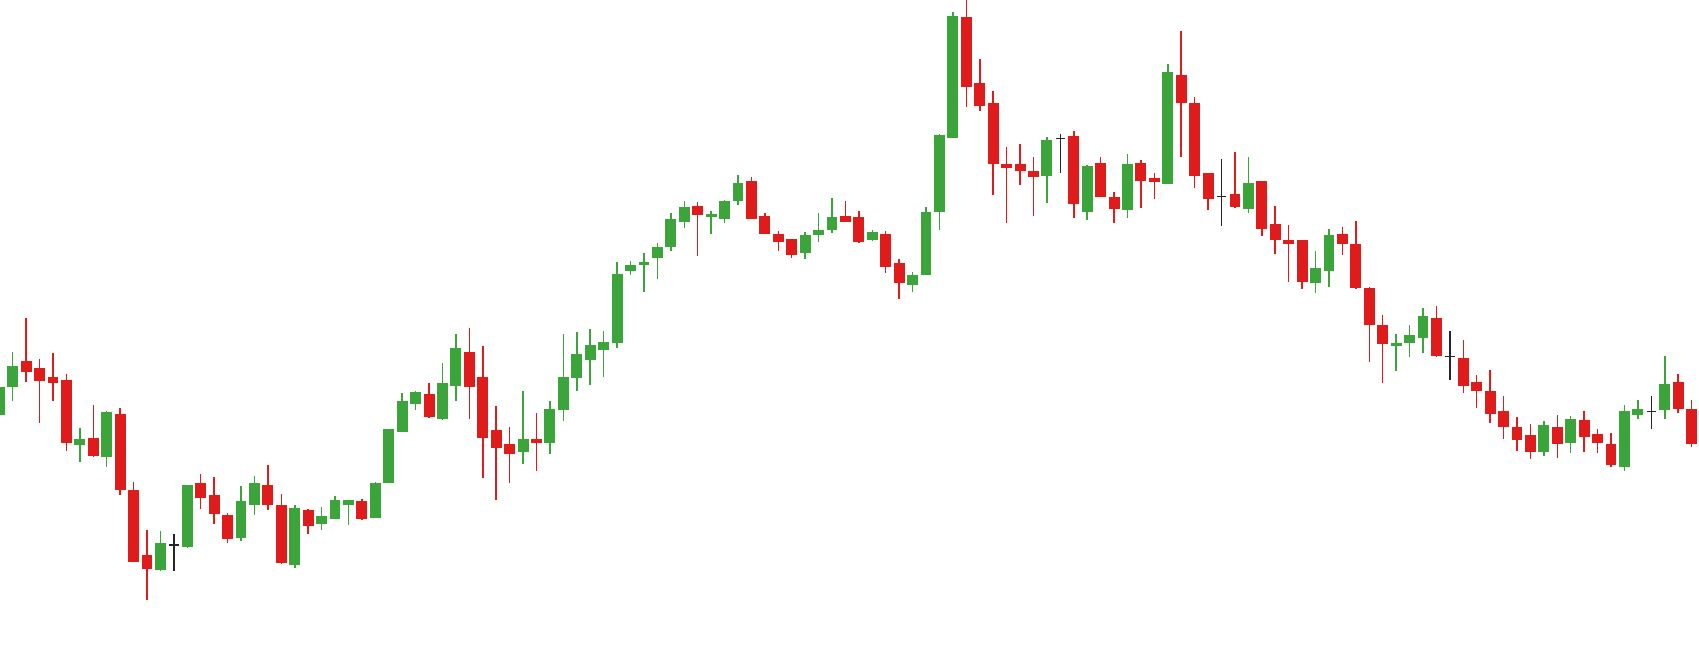buy: (222, 478, 303, 572)
sell: (1039, 27, 1204, 195)
